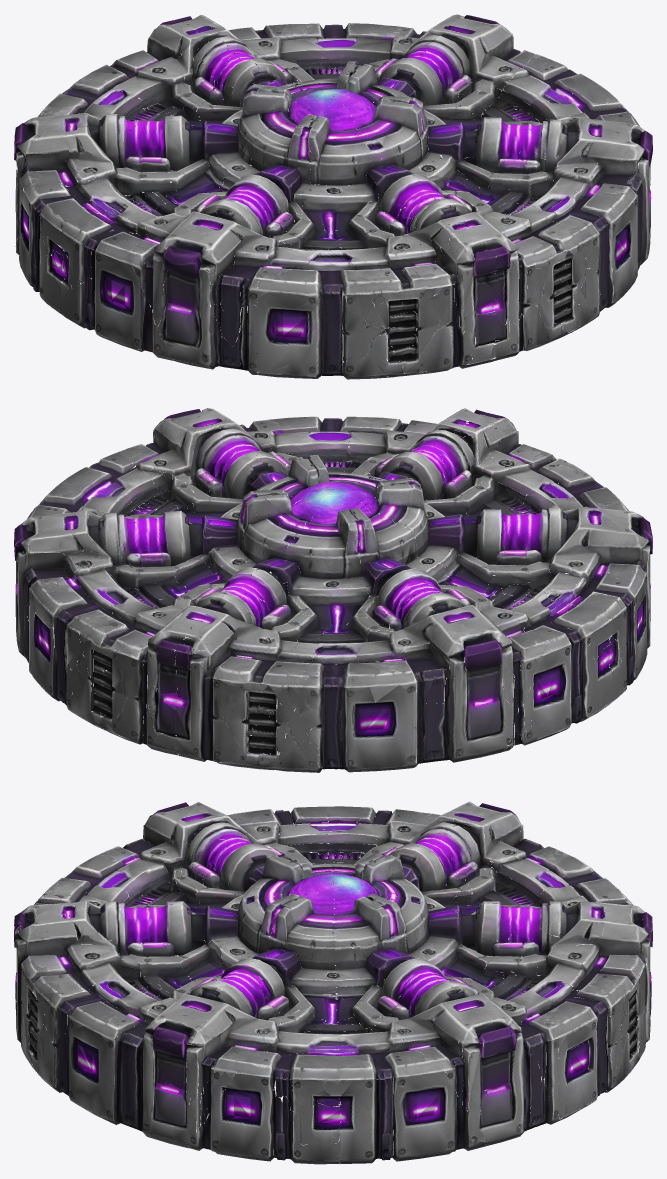
The model's file is warrior-3-tier-2.glb.
The picture shows the model from 3 angles, top to bottom: view 1: azimuth 30°, elevation 25°; view 2: azimuth 150°, elevation 25°; view 3: azimuth 270°, elevation 25°; orthographic projection.
Parts seen in each view (by area): view 1: moving-assembly, fixed-platform; view 2: moving-assembly, fixed-platform; view 3: moving-assembly, fixed-platform.
Part boxes in pixels (bbox=[...]): moving-assembly: bbox=[14, 14, 652, 308]; fixed-platform: bbox=[15, 51, 651, 379]; moving-assembly: bbox=[14, 408, 652, 710]; fixed-platform: bbox=[15, 463, 650, 772]; moving-assembly: bbox=[14, 801, 652, 1097]; fixed-platform: bbox=[15, 854, 651, 1164].
Bounding box in the file's own units: 0.8315 × 0.223 × 0.8355.
Materials: 2 (2 with a texture image).
